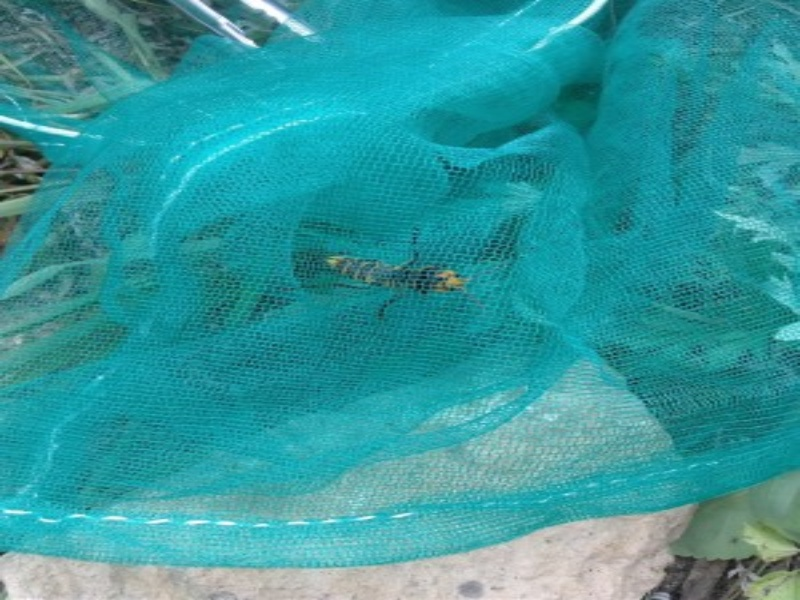asian_giant_hornet: (320, 250, 475, 304)
